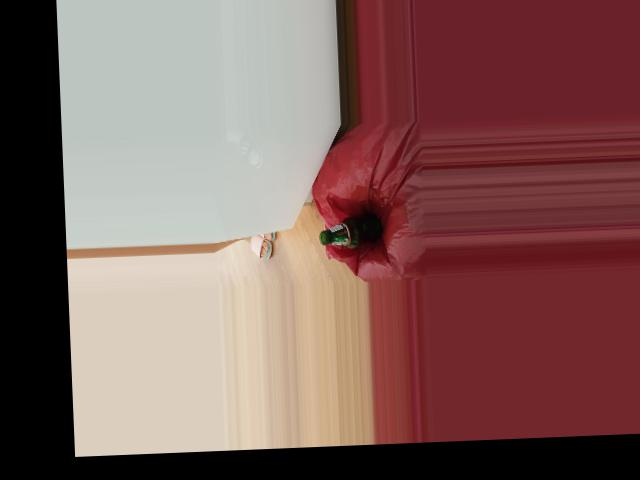beer: (319, 212, 383, 248)
